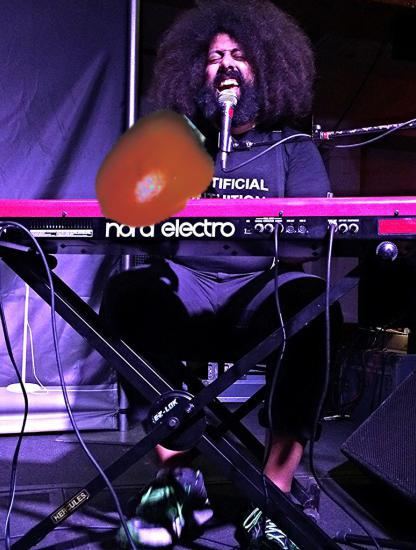Kaki: (88, 110, 216, 238)
